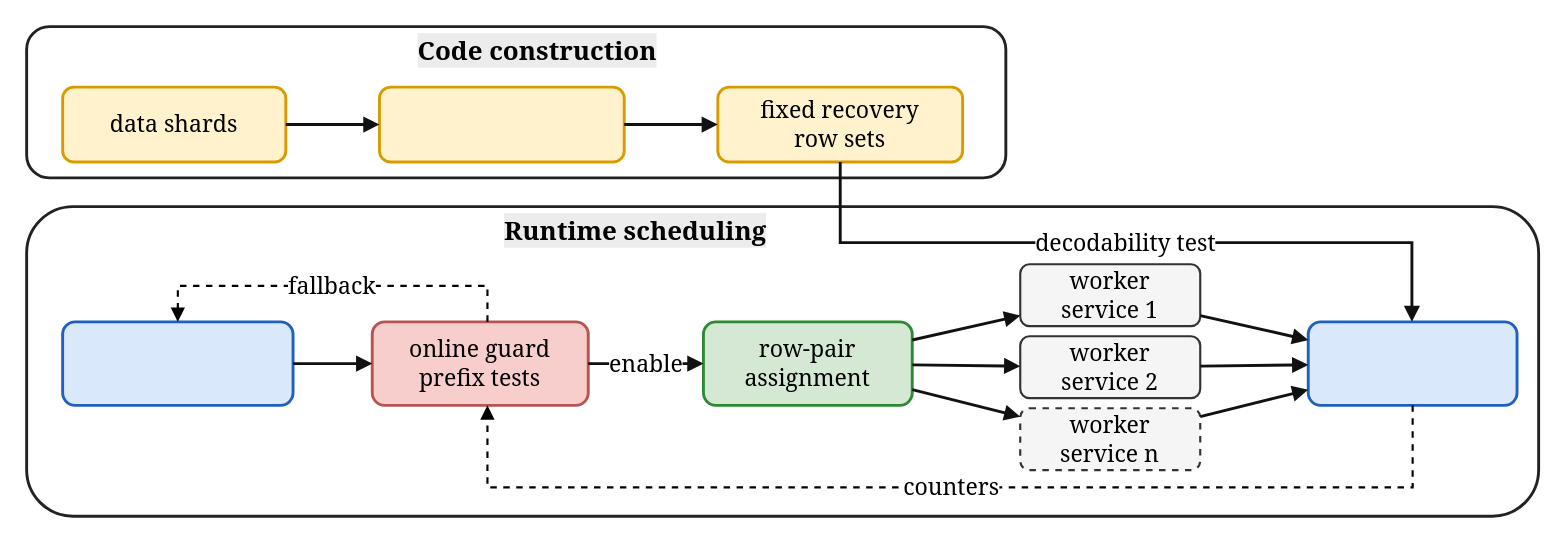
The diagram is 1564 pixels wide and 541 high, and some of its shapes have lost their labels. The centre of each missing label's shape, as x and y in pixels:
exact span first-decode: the point at 1412,363
row scores + worker speeds: the point at 177,363
sparse-flexible encoded rows: the point at 501,124
